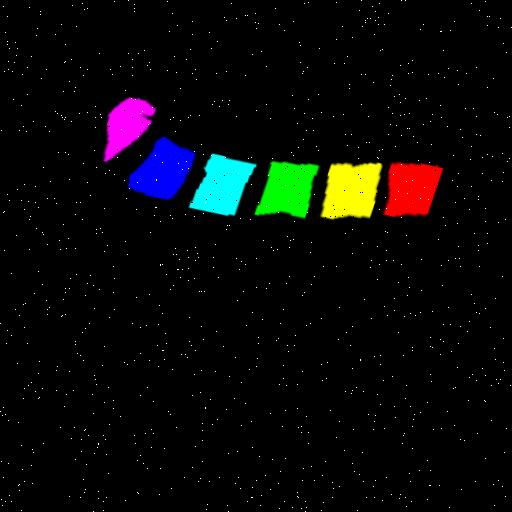L1: (386, 168, 444, 223)
L2: (322, 167, 383, 224)
L3: (256, 166, 321, 222)
L4: (192, 157, 257, 219)
L5: (129, 140, 197, 202)
S1: (103, 99, 155, 163)
